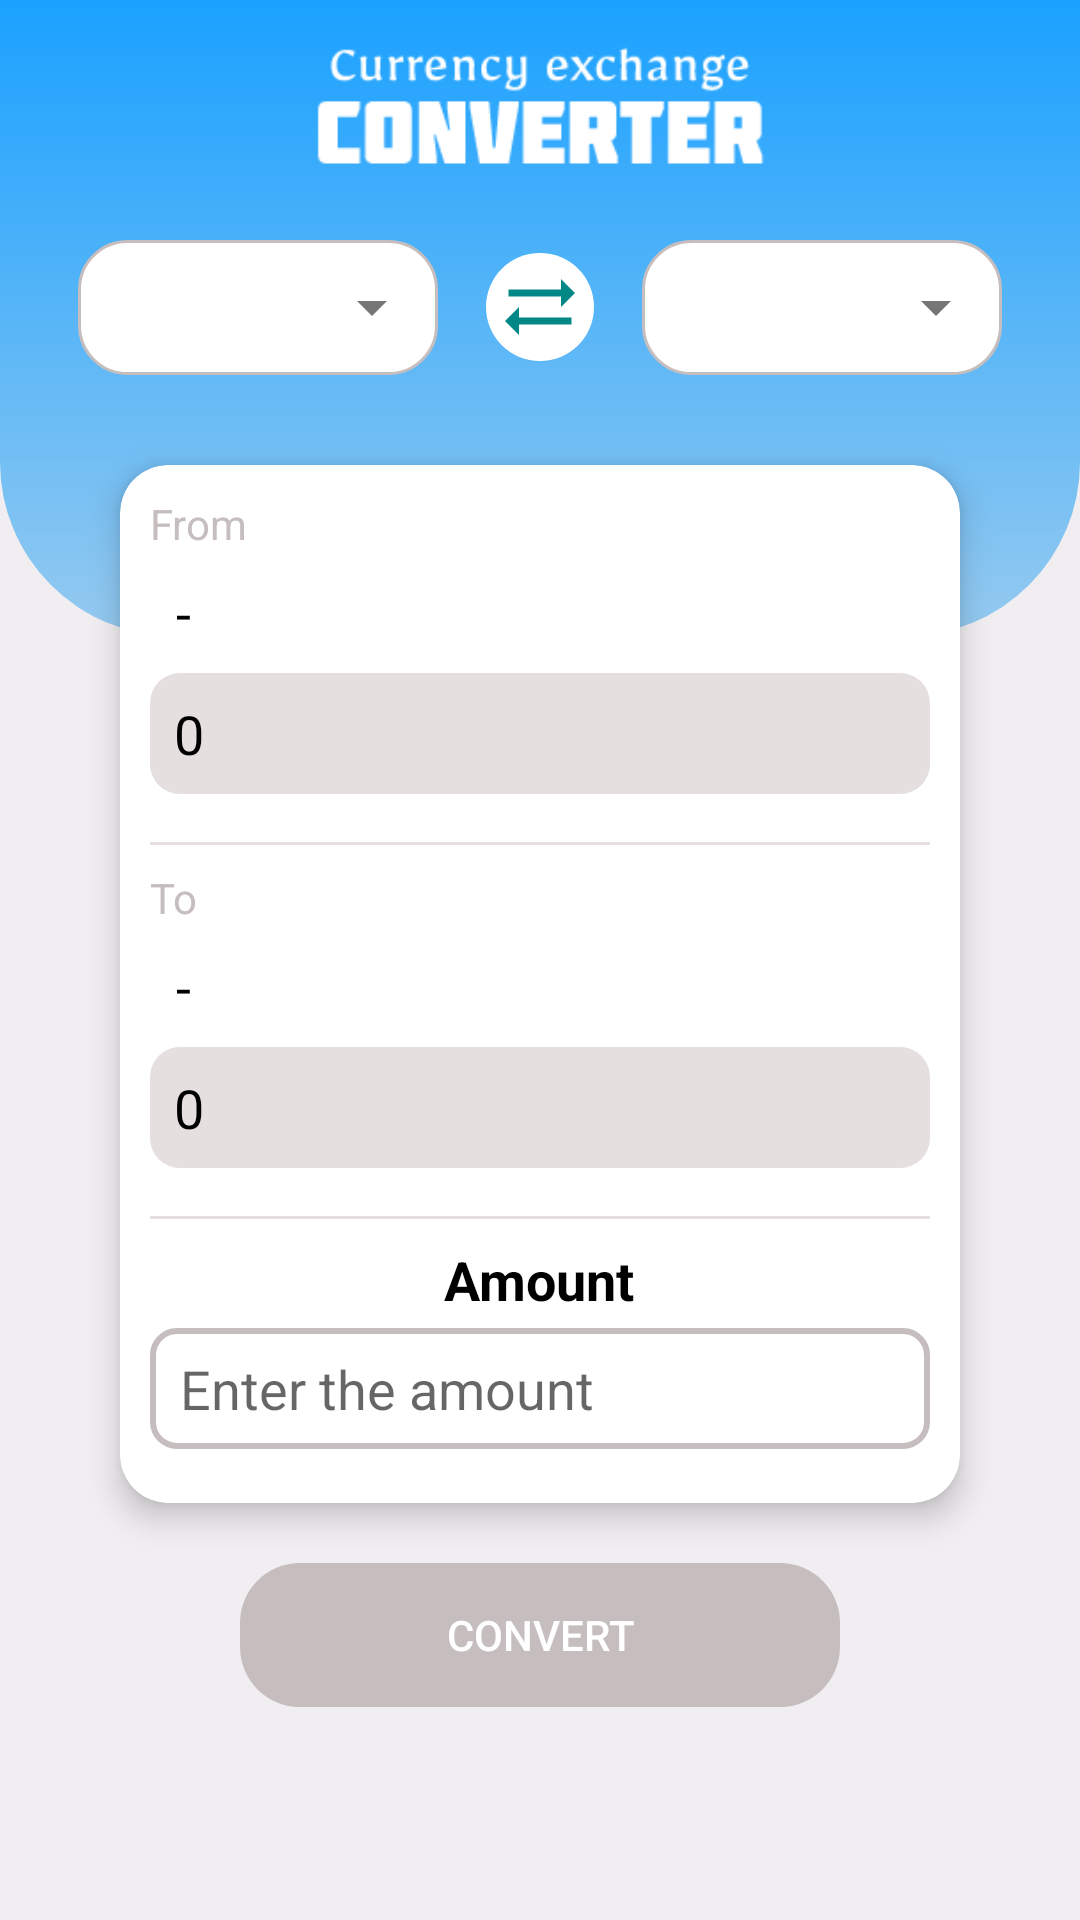

Locate icon controls on the screen. Image size 1080 × 1920, boxes as bbox(x1, y1, x2, y2).
exchange: bbox(486, 253, 594, 361)
